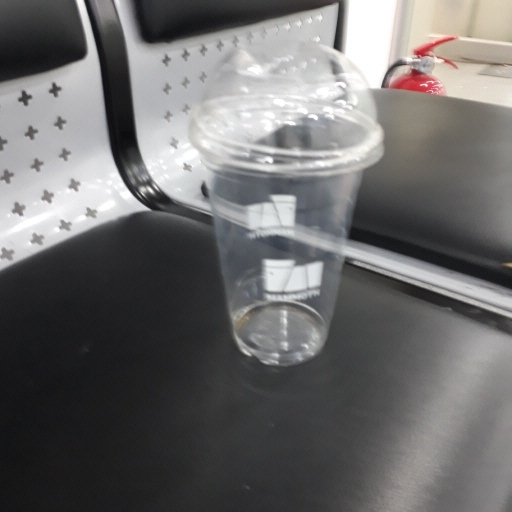Plastic_2: (188, 41, 391, 366)
